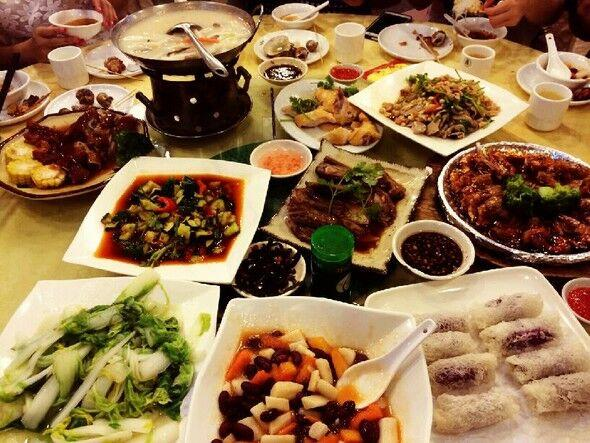food: (193, 293, 432, 441), (6, 270, 207, 431), (77, 150, 268, 282), (437, 128, 587, 264), (280, 141, 428, 258), (6, 84, 156, 197), (358, 58, 513, 150), (276, 58, 384, 149), (389, 213, 478, 281), (226, 229, 306, 299), (246, 135, 313, 181)
